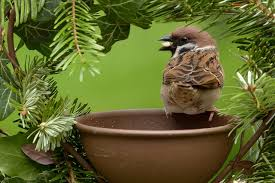hsparrow: (154, 24, 230, 119)
